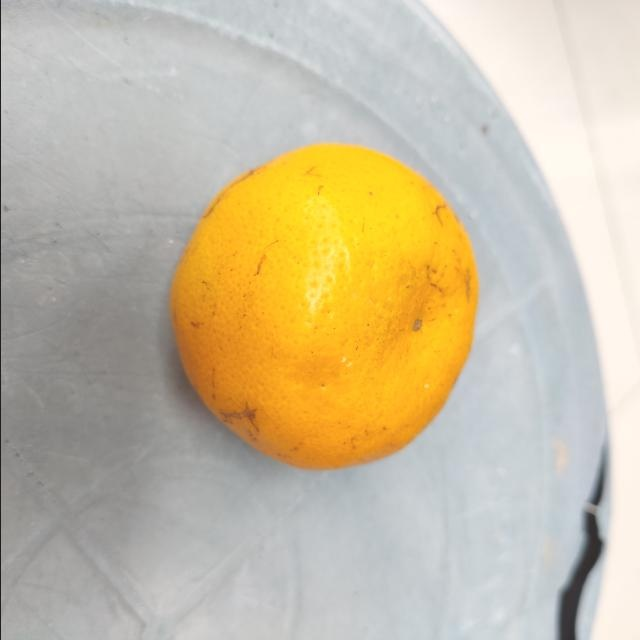agrume: (166, 140, 478, 476)
